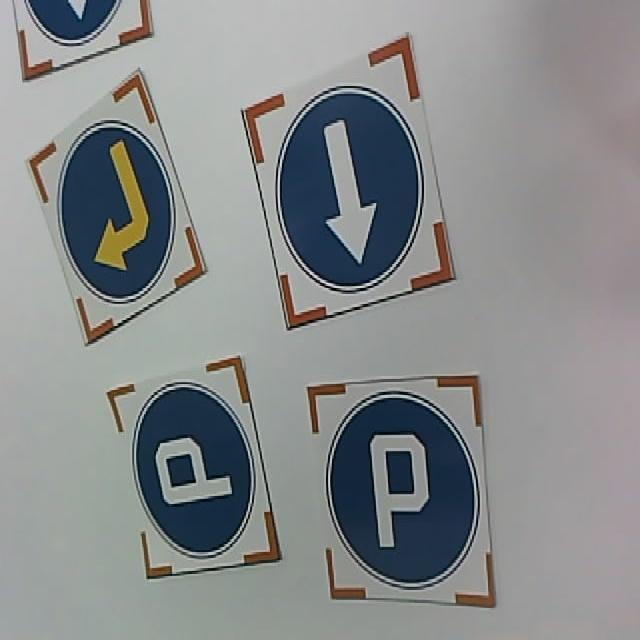parking: (325, 389, 480, 591), (130, 380, 258, 559)
straight: (275, 84, 427, 296)
turn: (57, 117, 181, 304)
